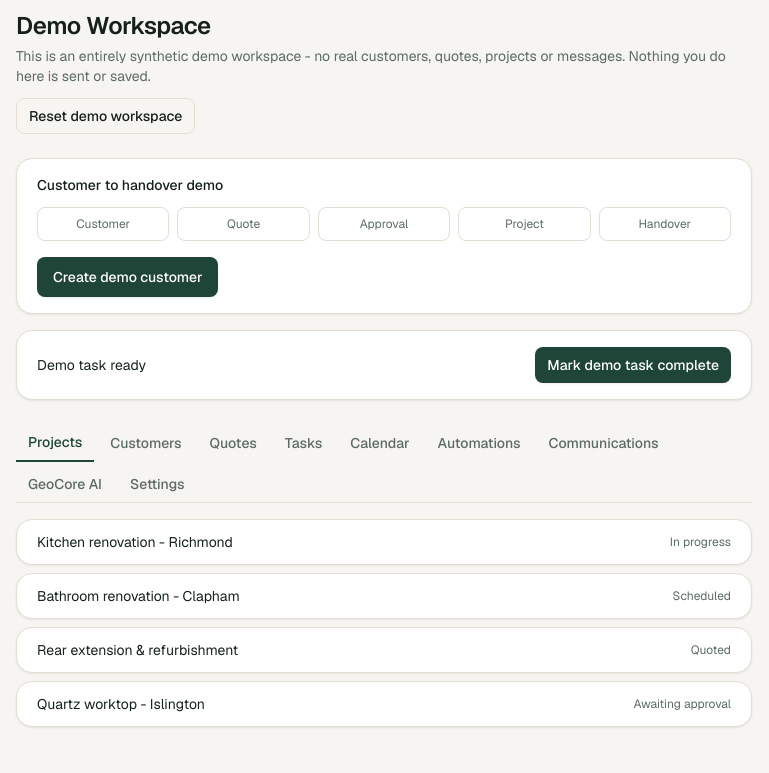
Test: Demo Workspace › allows_safe_local_navigation_and_reset_without_network_or_storage
Click the button "Create demo customer": click(128, 277) [37,257,218,297]
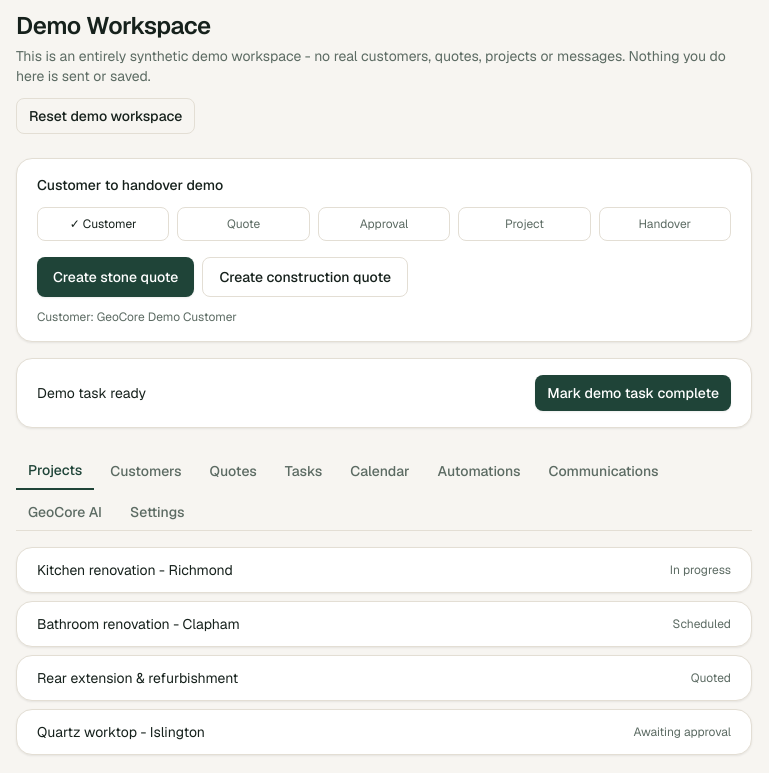
Click the button "Create stone quote": click(116, 277) [37,257,194,297]
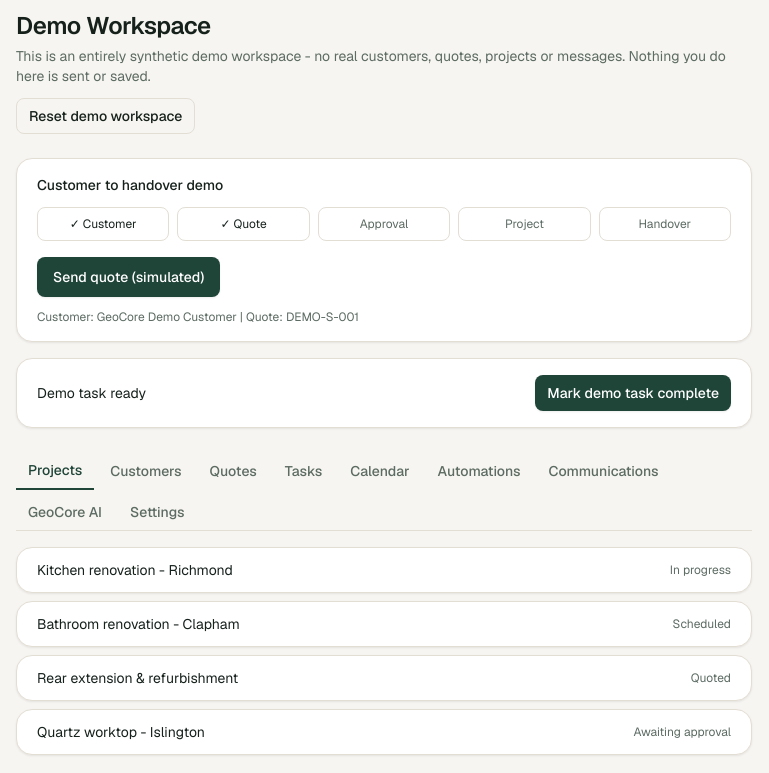
Expected: the text "Customer: GeoCore Demo Customer | Quote: DEMO-S-001" is shown, [37,309,359,325]
Click the button "Reset demo workspace": click(106, 116) [16,98,195,134]
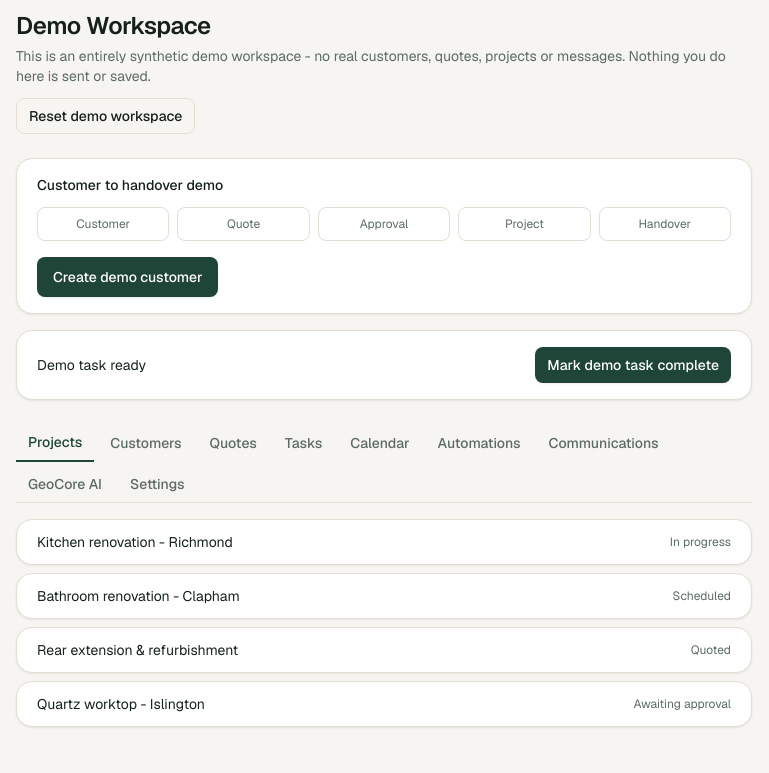
Expected: the button "Create demo customer" is shown, [37,257,218,297]
